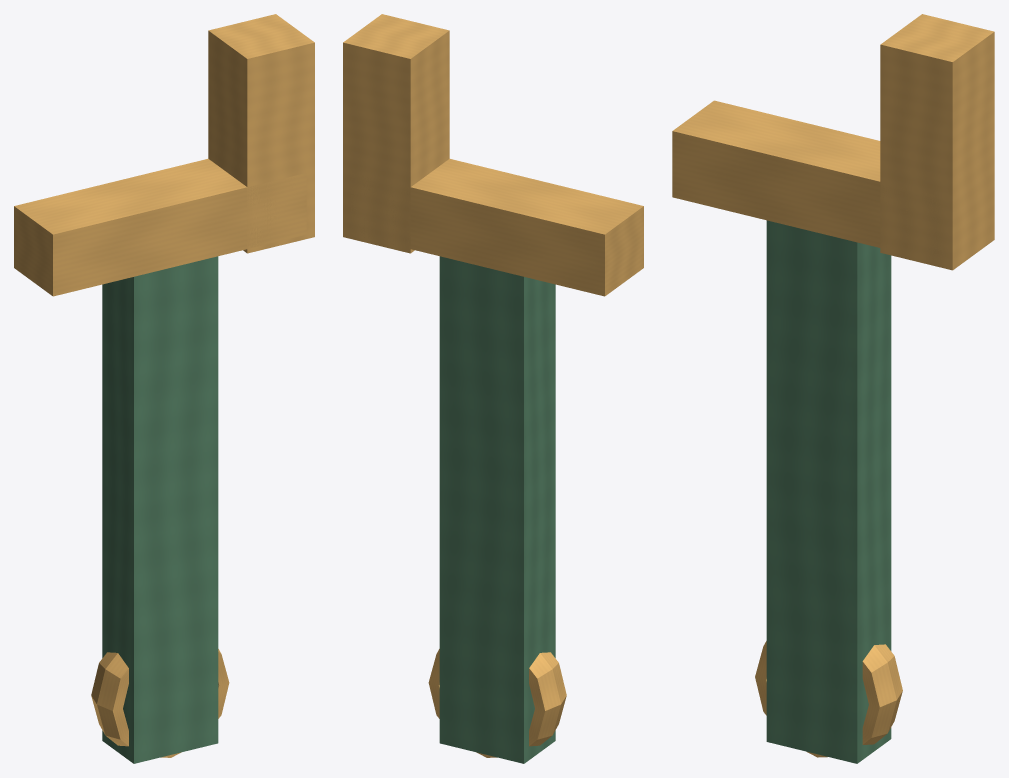
File: atlas100-s002-a05.lod1.glb
3 renders of one model, left to right at view 1: azimuth 30°, elevation 25°; view 2: azimuth 150°, elevation 25°; view 3: azimuth 330°, elevation 25°, orthographic. The views are drawn at different scales.
Visible parts, largest first — view 1: atlas100-s002-a05:part-000, atlas100-s002-a05:part-003, atlas100-s002-a05:part-002, atlas100-s002-a05:part-004; view 2: atlas100-s002-a05:part-000, atlas100-s002-a05:part-003, atlas100-s002-a05:part-002, atlas100-s002-a05:part-004; view 3: atlas100-s002-a05:part-000, atlas100-s002-a05:part-002, atlas100-s002-a05:part-003, atlas100-s002-a05:part-004.
Part boxes in pixels (bbox=[...]): atlas100-s002-a05:part-000: bbox=[102, 256, 218, 763]; atlas100-s002-a05:part-003: bbox=[14, 158, 306, 296]; atlas100-s002-a05:part-002: bbox=[208, 14, 314, 253]; atlas100-s002-a05:part-004: bbox=[91, 649, 229, 757]; atlas100-s002-a05:part-000: bbox=[439, 256, 555, 763]; atlas100-s002-a05:part-003: bbox=[351, 158, 643, 296]; atlas100-s002-a05:part-002: bbox=[343, 14, 449, 253]; atlas100-s002-a05:part-004: bbox=[428, 649, 566, 757]; atlas100-s002-a05:part-000: bbox=[766, 220, 891, 763]; atlas100-s002-a05:part-002: bbox=[880, 14, 994, 270]; atlas100-s002-a05:part-003: bbox=[672, 100, 943, 260]; atlas100-s002-a05:part-004: bbox=[755, 641, 902, 757].
Bounding box in the file's own units: 0.3385 × 0.8572 × 0.0874.
2 materials, 2 textured.
